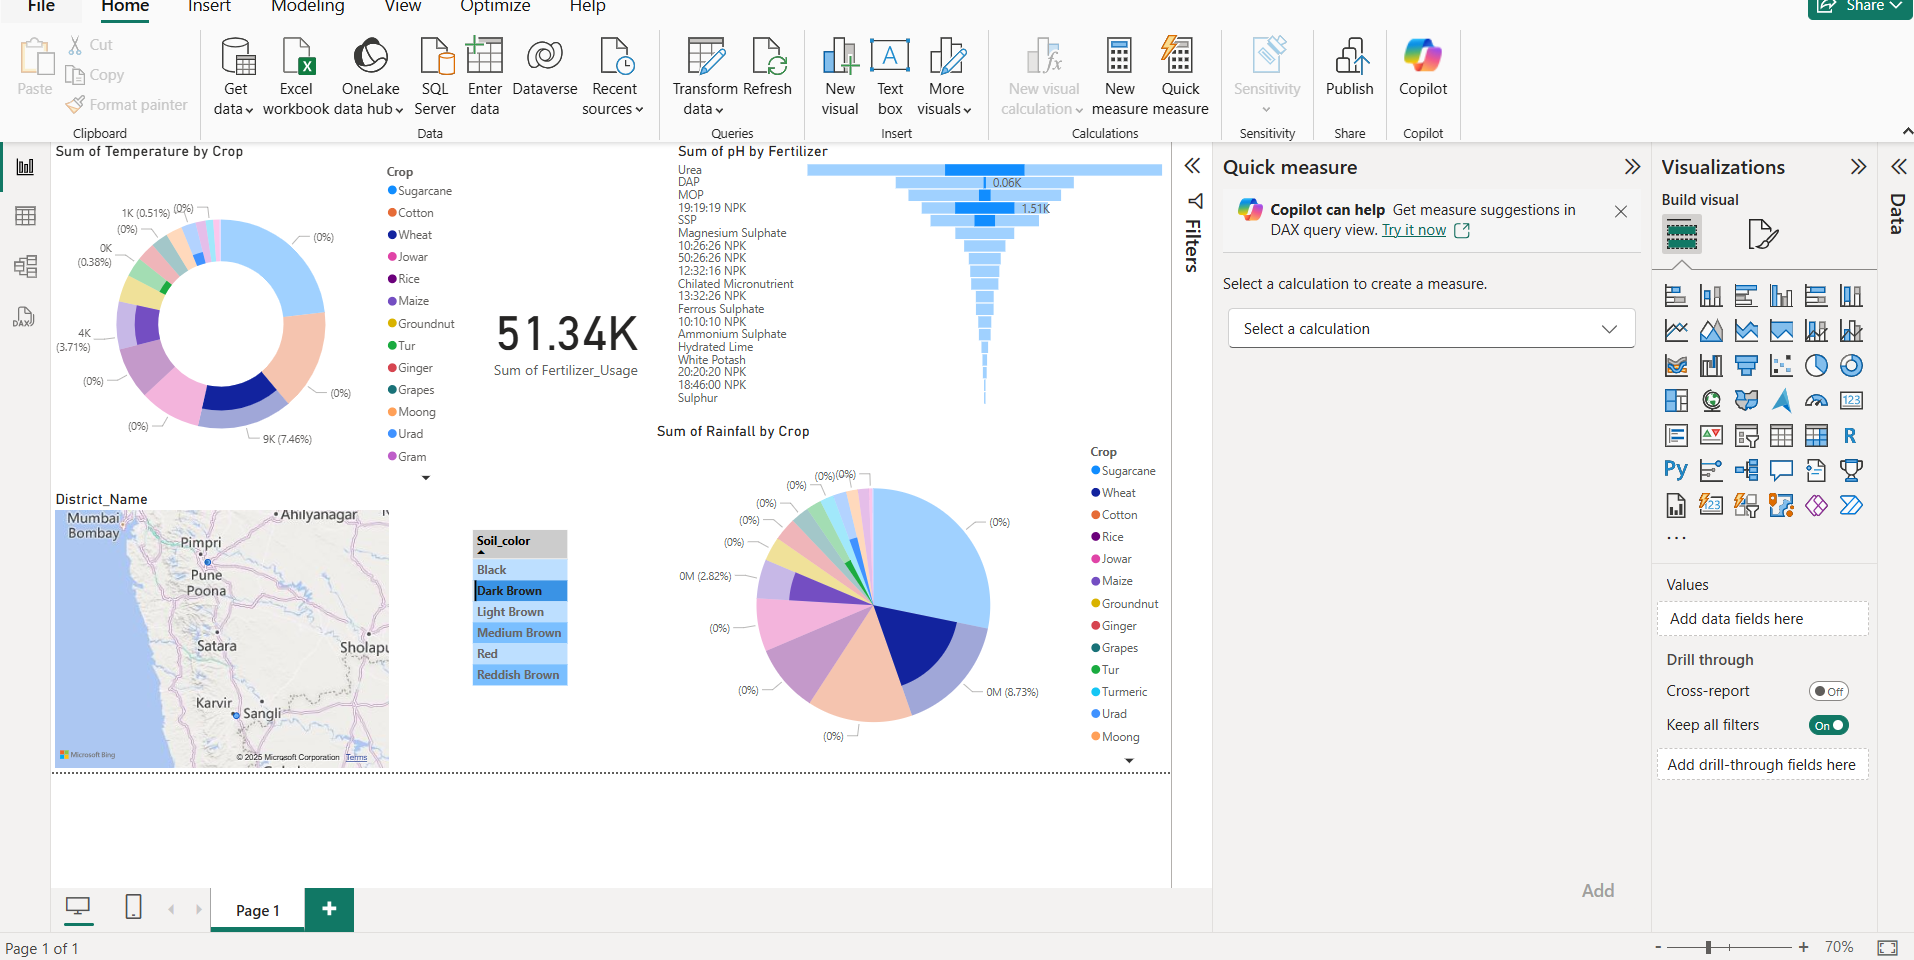

What the dashboard file says about the page in this screenshot:
{"tool":"powerbi","page":{"name":"Page 1","canvas":[1280,720],"ordinal":0},"visuals":[{"type":"map","fields":{"Category":["Crop_and_fertilizer_with_usage.District_Name"]},"box":[0,397.1,391.4,322.9],"z":0},{"type":"tableEx","fields":{"Values":["Crop_and_fertilizer_with_usage.Soil_color"]},"box":[475.7,438.6,225.7,281.4],"z":1},{"type":"card","fields":{"Values":["Sum(Crop_and_fertilizer_with_usage.Fertilizer_Usage)"]},"box":[490,124.3,197.1,195.7],"z":2},{"type":"pieChart","fields":{"Category":["Crop_and_fertilizer_with_usage.Crop"],"Y":["Sum(Crop_and_fertilizer_with_usage.Rainfall)"]},"box":[687.1,320,592.9,400],"z":3},{"type":"donutChart","fields":{"Category":["Crop_and_fertilizer_with_usage.Crop"],"Y":["Sum(Crop_and_fertilizer_with_usage.Temperature)"]},"box":[0,0,475.7,397.1],"z":4},{"type":"funnel","fields":{"Category":["Crop_and_fertilizer_with_usage.Fertilizer"],"Y":["Sum(Crop_and_fertilizer_with_usage.pH)"]},"box":[711.4,0,568.6,305.7],"z":5}]}

Visuals, with their boxes on the page's 1280x720 design canvas (x1, y1, x2, y2). These are canvas units, not pixel positions in the 1914x960 screenshot, which may show the page scaled, cropped or inside an application window:
map - Crop_and_fertilizer_with_usage.District_Name: bbox=(0, 397, 391, 720)
tableEx - Crop_and_fertilizer_with_usage.Soil_color: bbox=(476, 439, 701, 720)
card - Sum(Crop_and_fertilizer_with_usage.Fertilizer_Usage): bbox=(490, 124, 687, 320)
pieChart - Crop_and_fertilizer_with_usage.Crop x Sum(Crop_and_fertilizer_with_usage.Rainfall): bbox=(687, 320, 1280, 720)
donutChart - Crop_and_fertilizer_with_usage.Crop x Sum(Crop_and_fertilizer_with_usage.Temperature): bbox=(0, 0, 476, 397)
funnel - Crop_and_fertilizer_with_usage.Fertilizer x Sum(Crop_and_fertilizer_with_usage.pH): bbox=(711, 0, 1280, 306)
